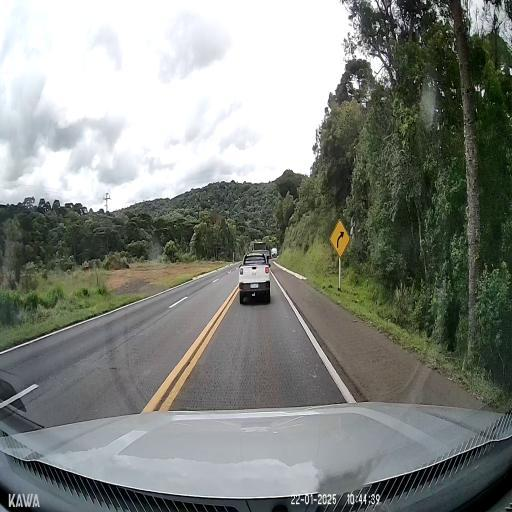A-2b: (329, 218, 350, 258)
